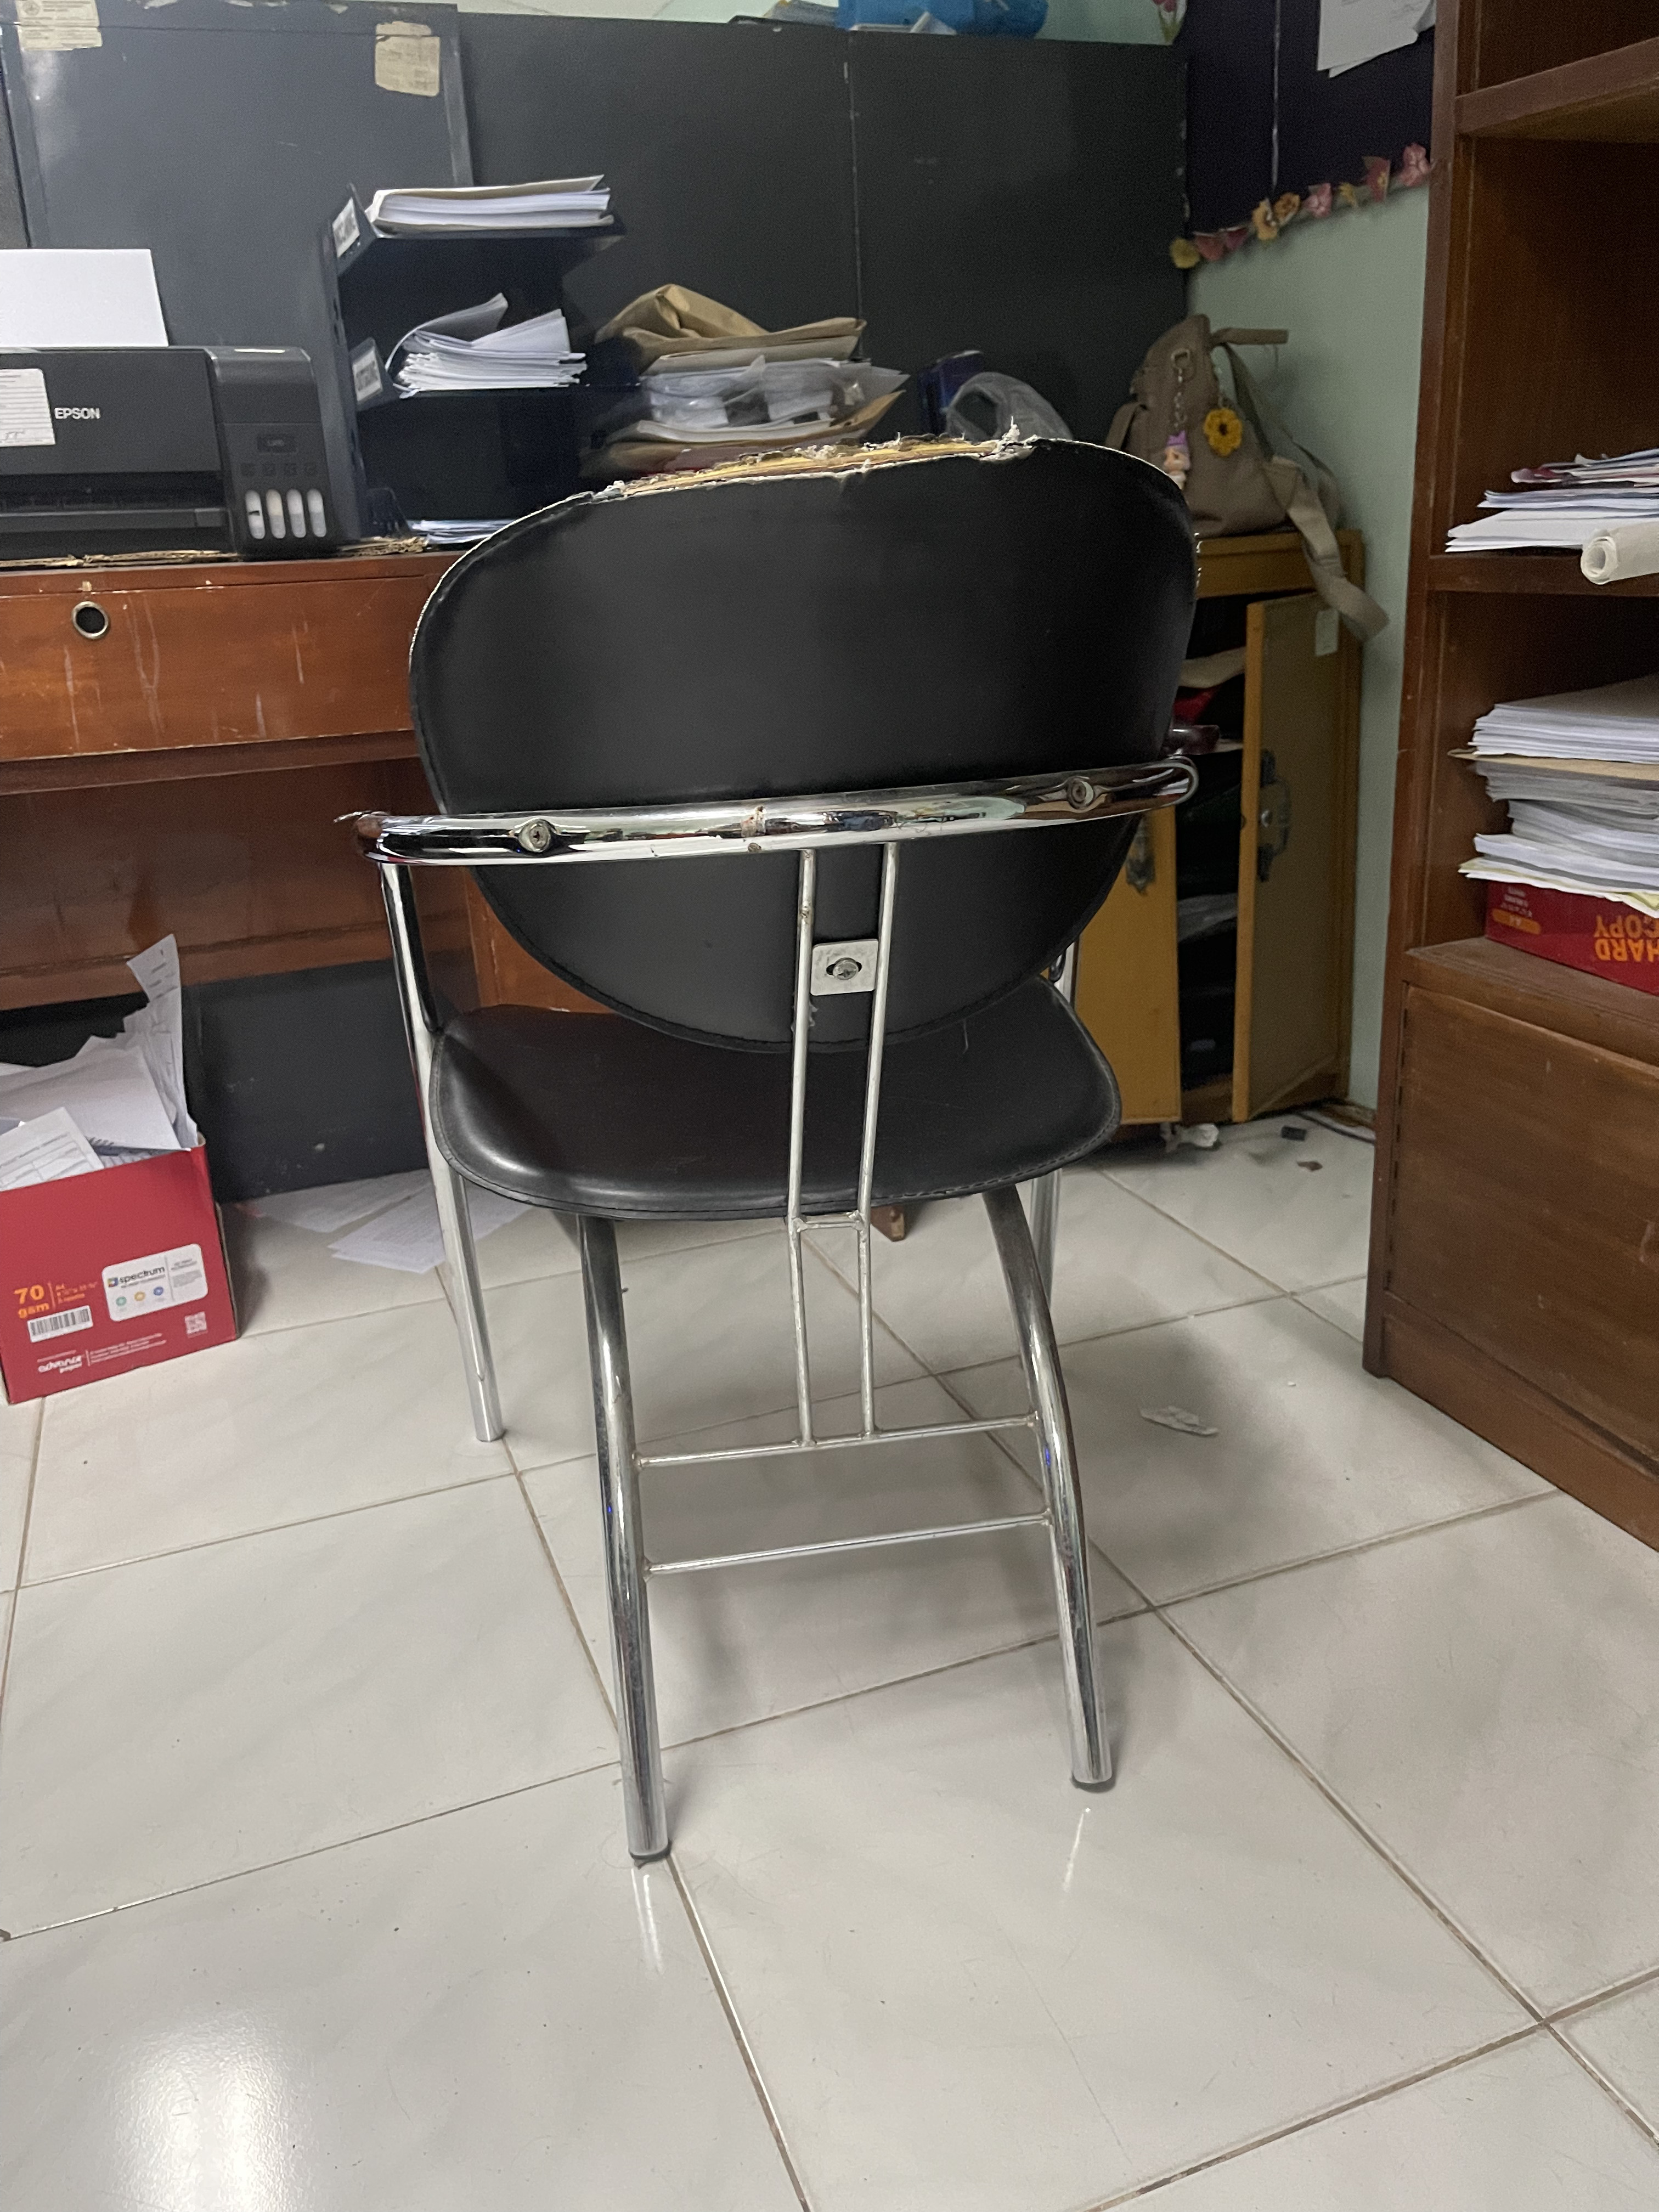chair1: (338, 432, 1211, 1872)
